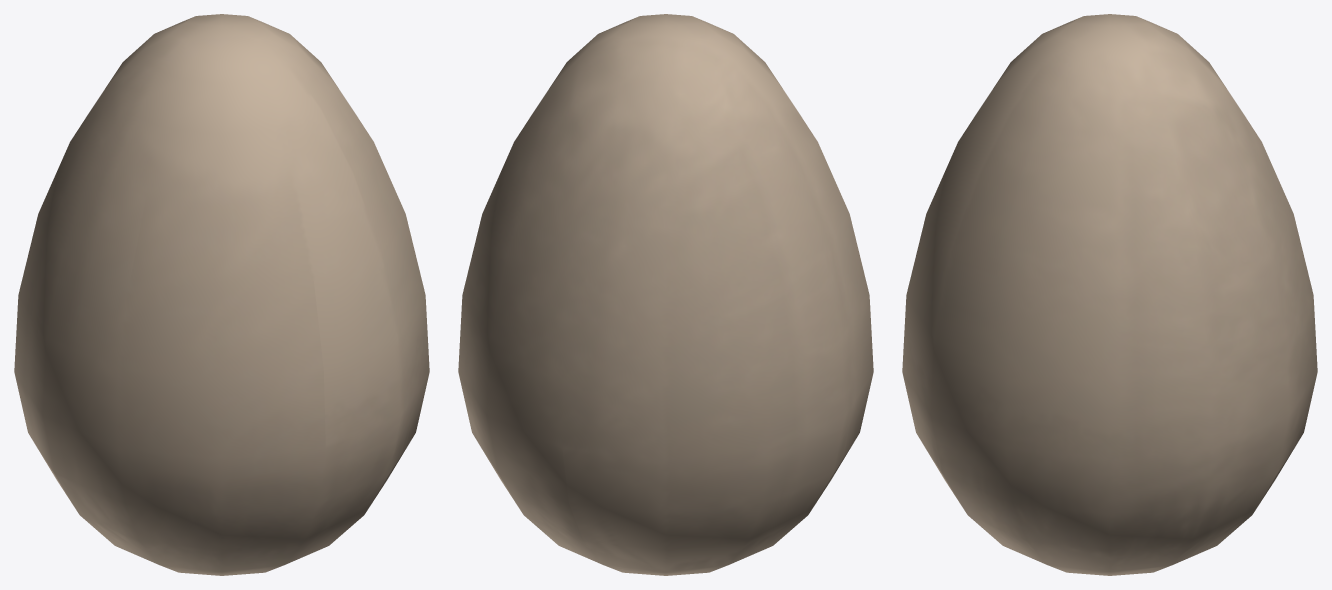
File: Fine Egg.fbx
3 views of the same model, side by side, from view 1: azimuth 30°, elevation 25°; view 2: azimuth 150°, elevation 25°; view 3: azimuth 270°, elevation 25° (orthographic).
Parts seen in each view (by area): view 1: Fine Egg; view 2: Fine Egg; view 3: Fine Egg.
Part boxes in pixels (box(x1,y1,x2,y2)): Fine Egg: box(14, 14, 429, 575); Fine Egg: box(458, 14, 873, 575); Fine Egg: box(902, 14, 1317, 575).
Size of the model in its own units: 33.09 by 46.67 by 33.23.
1 material, 1 textured.
